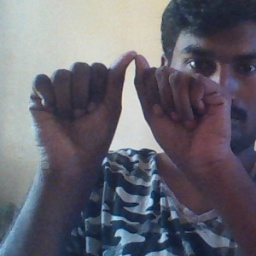A: (55, 47, 202, 161)
